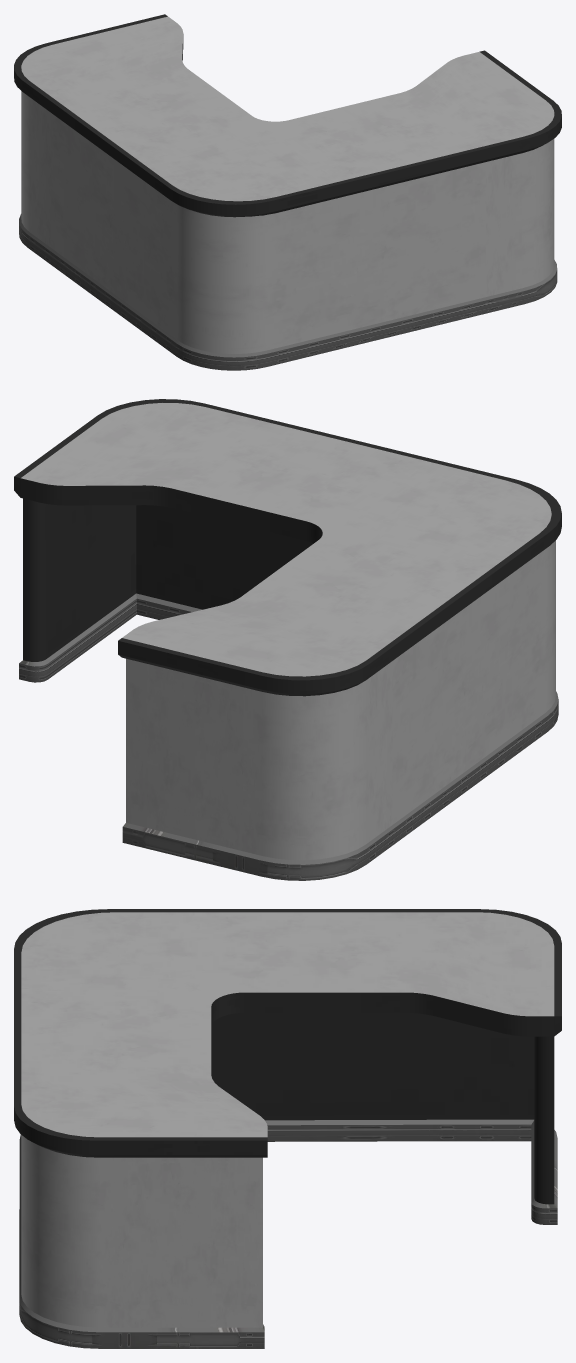
The model's file is scifi-desk-l.glb.
The picture shows the model from 3 angles, top to bottom: view 1: azimuth 30°, elevation 25°; view 2: azimuth 150°, elevation 25°; view 3: azimuth 270°, elevation 25°; orthographic projection. The views are drawn at different scales.
Visible parts, largest first — view 1: Prop_Desk_L; view 2: Prop_Desk_L; view 3: Prop_Desk_L.
Boxes of the visible parts, bbox=[...] form: Prop_Desk_L: bbox=[14, 14, 561, 370]; Prop_Desk_L: bbox=[14, 399, 561, 880]; Prop_Desk_L: bbox=[14, 909, 561, 1348].
Size of the model in its own units: 2.22 by 0.9395 by 2.22.
3 materials, 3 textured.
